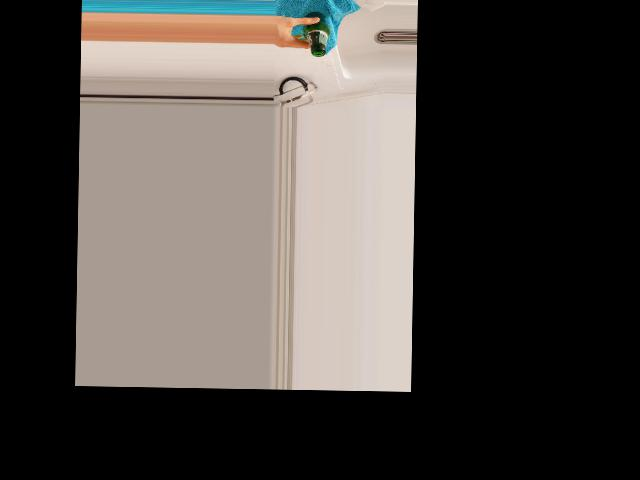beer: (304, 11, 330, 56)
